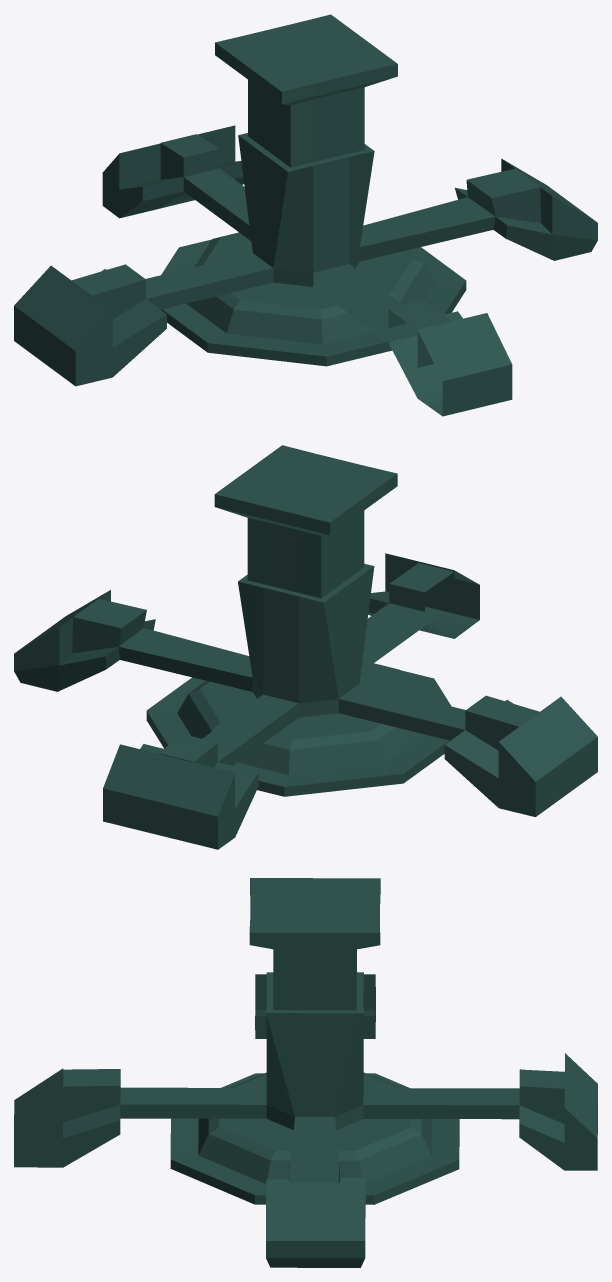
3 renders of one model, top to bottom at view 1: azimuth 30°, elevation 25°; view 2: azimuth 150°, elevation 25°; view 3: azimuth 270°, elevation 25°, orthographic. The views are drawn at different scales.
Parts seen in each view (by area): view 1: Base1:pCylinder2Bases; view 2: Base1:pCylinder2Bases; view 3: Base1:pCylinder2Bases.
Boxes of the visible parts, box(x1,y1,x2,y2) form: Base1:pCylinder2Bases: box(14, 14, 597, 416); Base1:pCylinder2Bases: box(14, 445, 597, 849); Base1:pCylinder2Bases: box(14, 878, 597, 1267).
Bounding box in the file's own units: 4.68 × 2.09 × 4.63.
